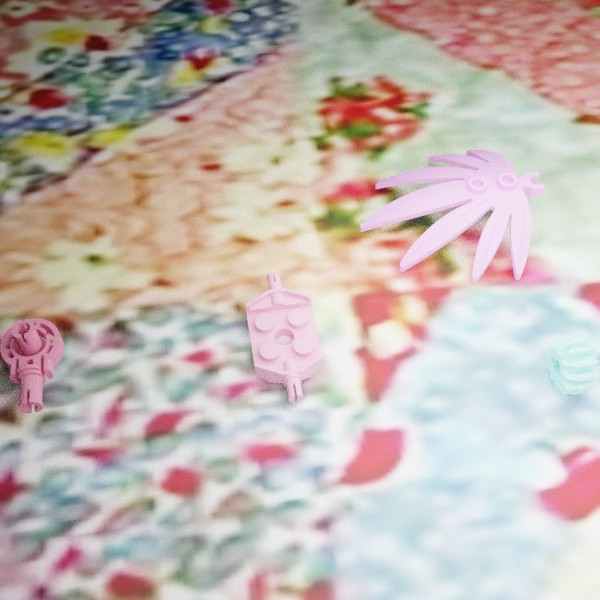lego: (359, 149, 545, 283), (245, 271, 324, 402), (0, 318, 64, 413), (545, 334, 600, 394)
